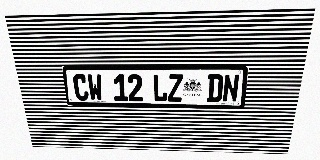1: (112, 74, 128, 101)
2: (127, 74, 143, 101)
C: (72, 74, 89, 101)
D: (207, 74, 224, 102)
L: (153, 74, 167, 102)
N: (222, 74, 240, 102)
W: (87, 74, 103, 101)
Z: (168, 74, 183, 102)
